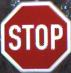Stop sign: (0, 0, 70, 72)
